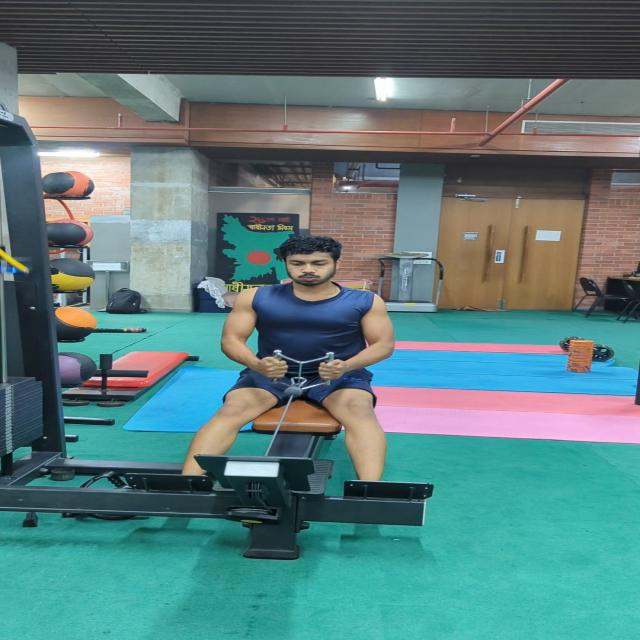Normal_RowingMachineExercise: (177, 234, 409, 482)
